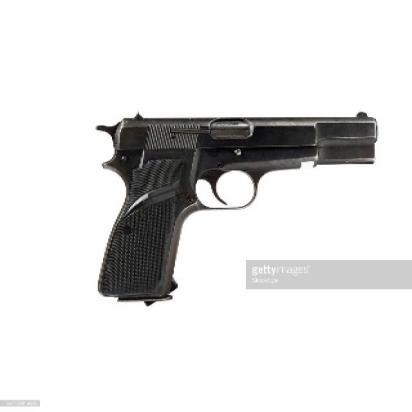Gun: (94, 107, 379, 306)
